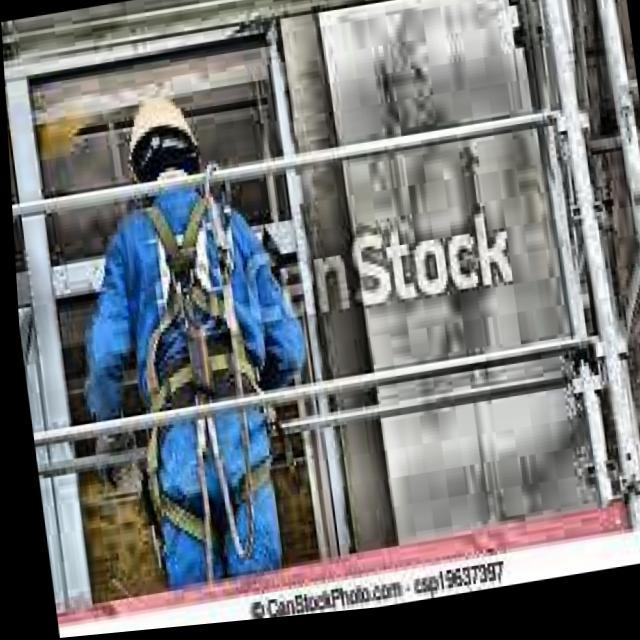belt: (106, 176, 282, 572)
